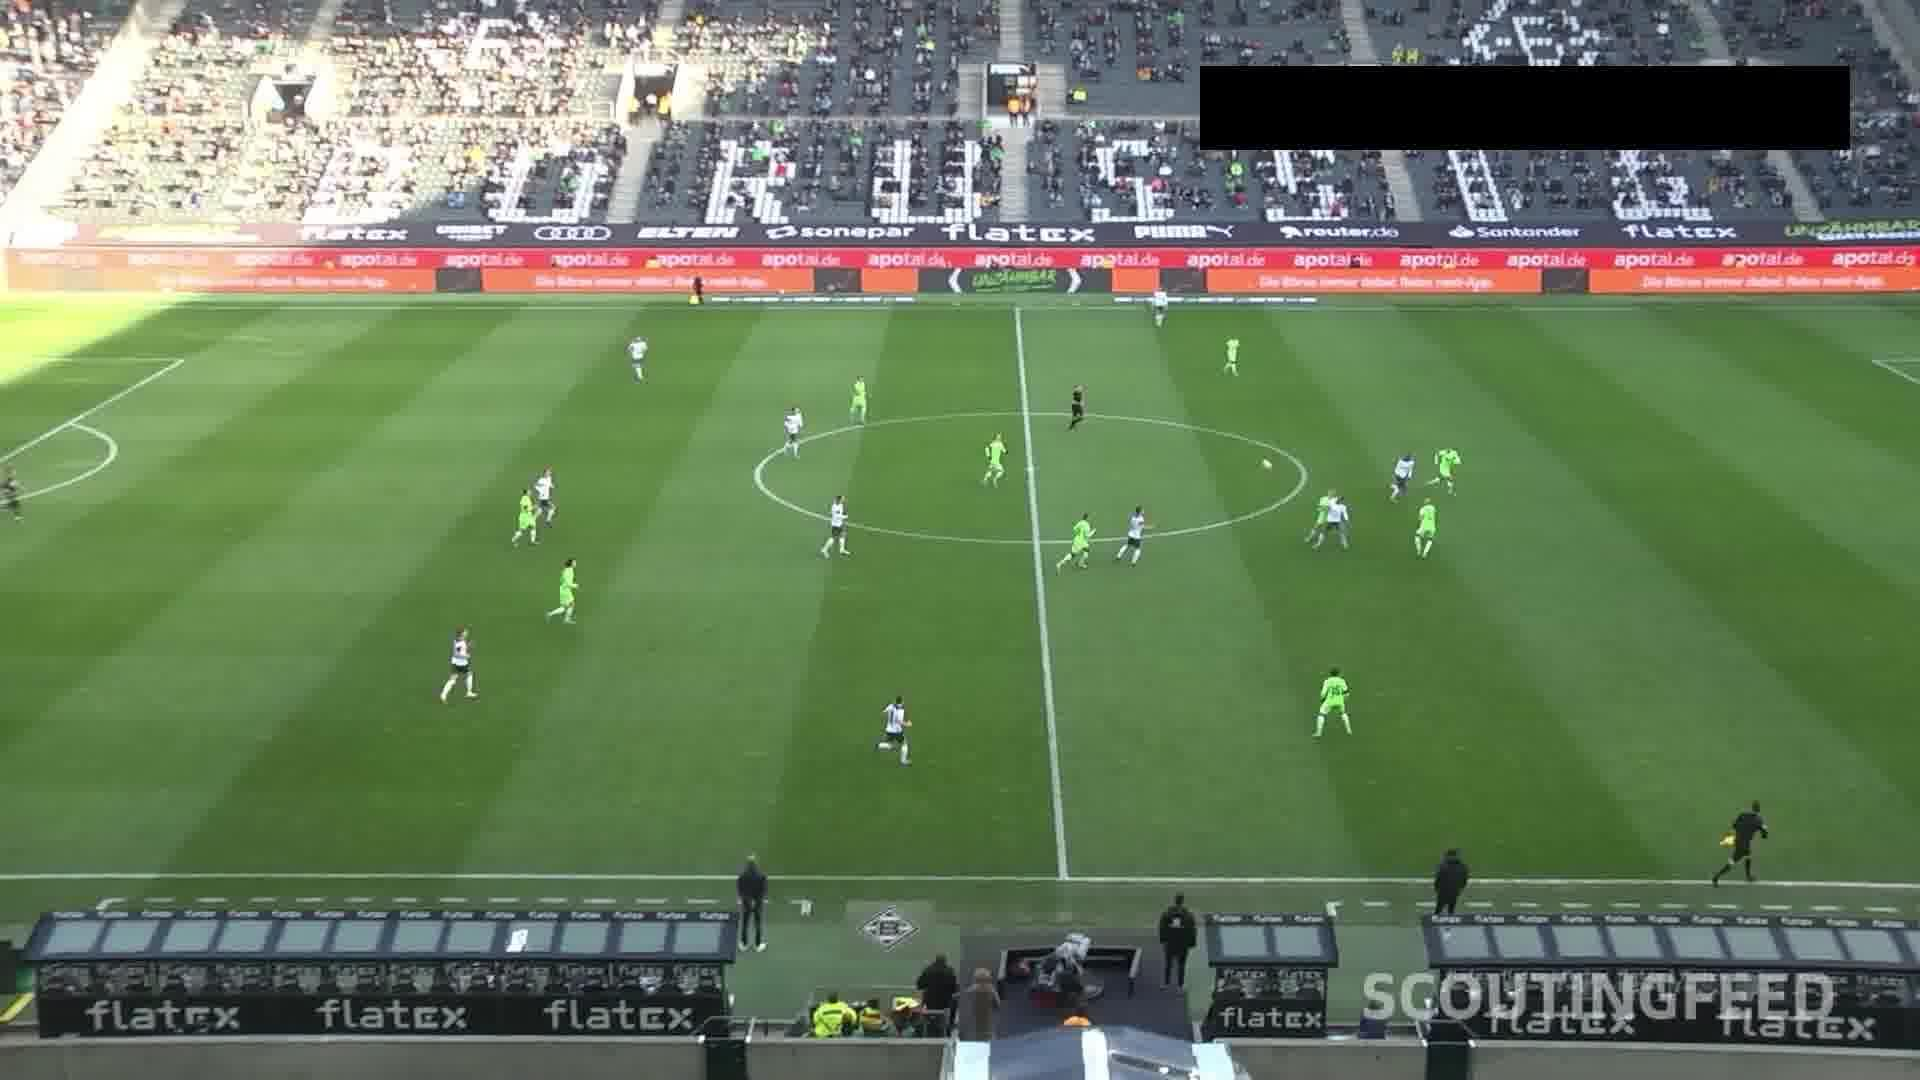football: (1258, 458, 1273, 471)
